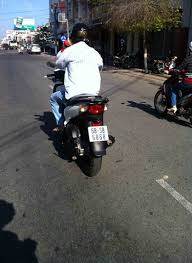Bien-so: (88, 125, 111, 142)
